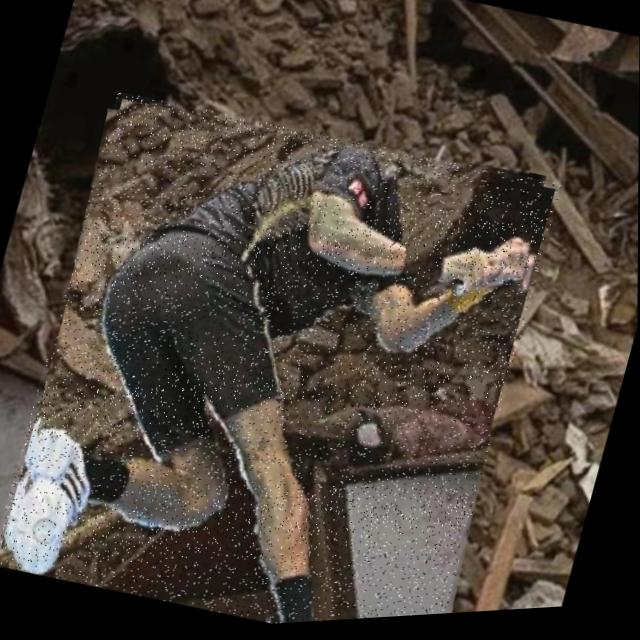Person in Rubble: (0, 72, 562, 640)
